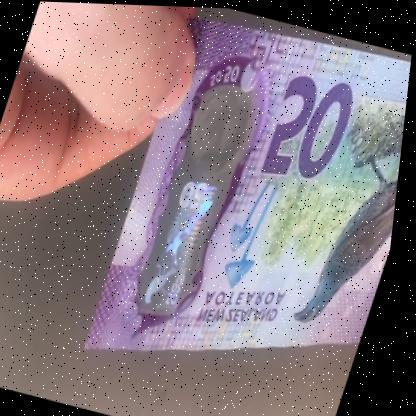50B: (143, 90, 253, 317)
